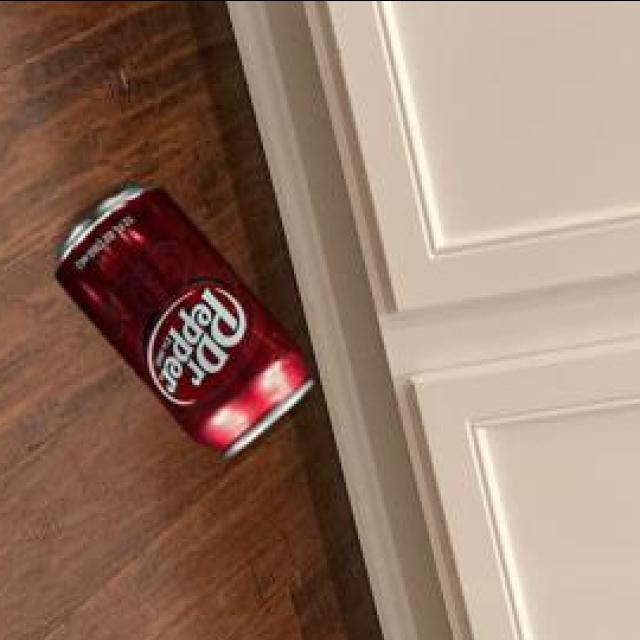logam: (58, 179, 316, 452)
